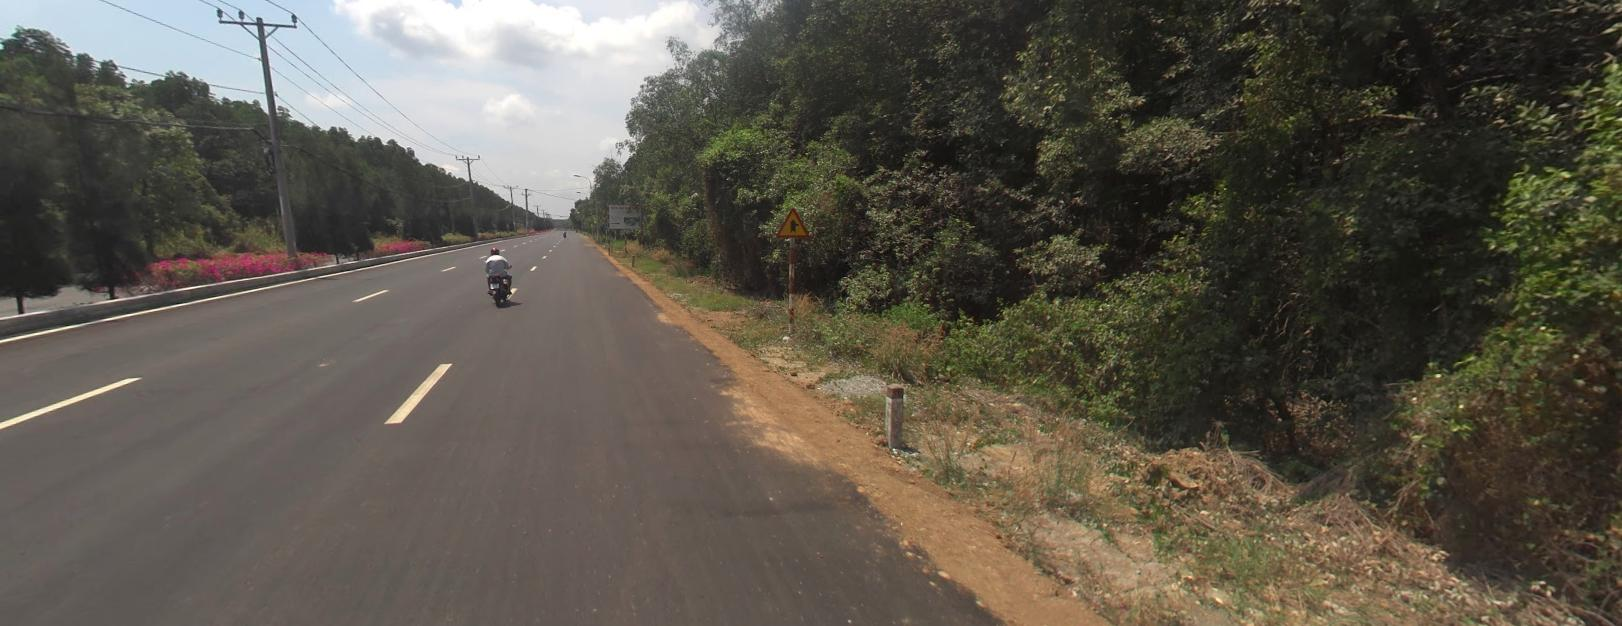Nguy hiem: (776, 207, 807, 235)
